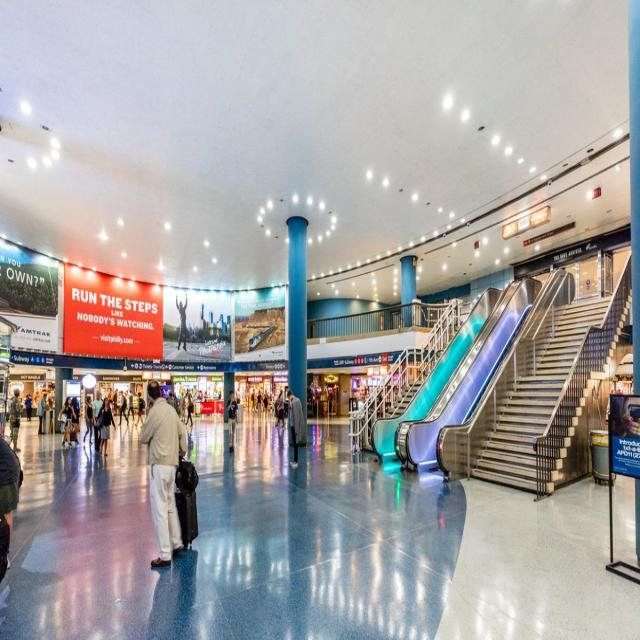body: (55, 414, 287, 496), (138, 379, 188, 567), (0, 431, 25, 586), (286, 388, 306, 468), (96, 395, 116, 458), (57, 394, 77, 450), (174, 290, 192, 352), (8, 387, 22, 453), (90, 389, 104, 453), (226, 389, 238, 454), (184, 386, 224, 404), (83, 394, 95, 446), (165, 388, 181, 426), (70, 394, 81, 446), (36, 391, 47, 434), (117, 388, 129, 426), (275, 388, 285, 428), (134, 390, 144, 428), (328, 382, 338, 417), (126, 389, 136, 422), (185, 392, 194, 427), (23, 392, 32, 421), (112, 387, 119, 416), (262, 389, 269, 418), (180, 391, 186, 423), (45, 386, 53, 409), (107, 387, 114, 413), (250, 388, 257, 413), (256, 389, 262, 418), (0, 404, 5, 433), (269, 386, 275, 407), (234, 386, 241, 403), (124, 388, 129, 403), (28, 392, 32, 405), (99, 392, 104, 402)
